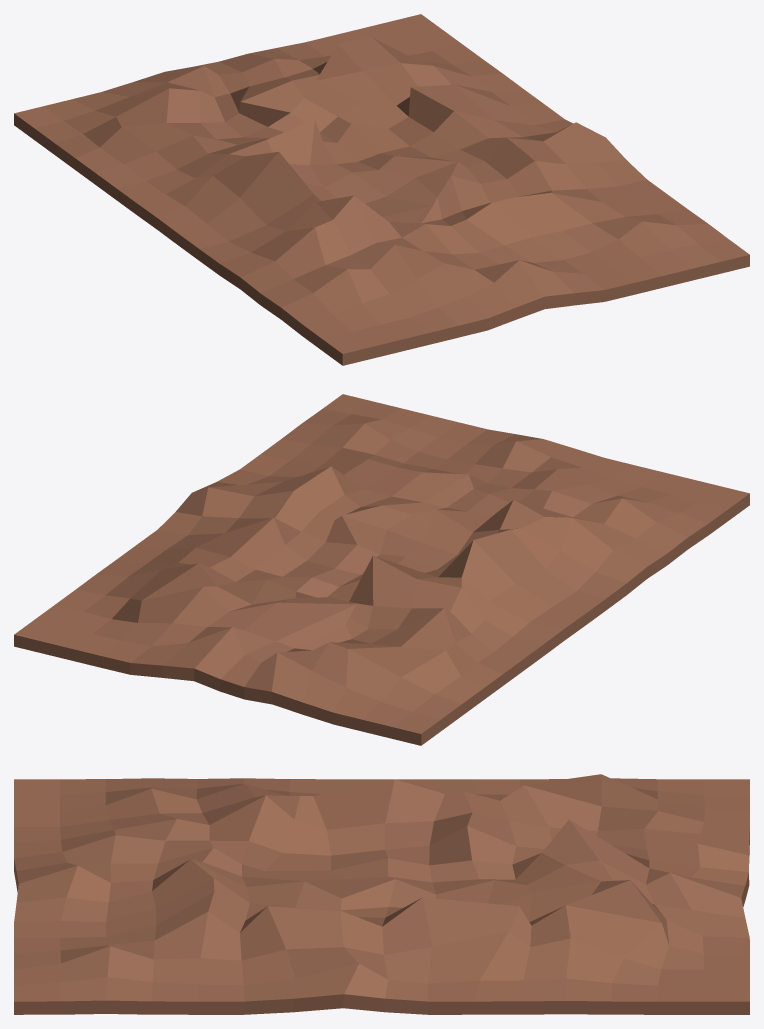
File: smalland.fbx
The picture shows the model from 3 angles, top to bottom: view 1: azimuth 30°, elevation 25°; view 2: azimuth 150°, elevation 25°; view 3: azimuth 270°, elevation 25°; orthographic projection. The views are drawn at different scales.
Parts seen in each view (by area): view 1: Cube; view 2: Cube; view 3: Cube.
Boxes of the visible parts, x1,y1,x2,y2 form: Cube: [14, 14, 749, 365]; Cube: [14, 394, 749, 745]; Cube: [14, 774, 749, 1014].
Size of the model in its own units: 817 by 121 by 1132.
